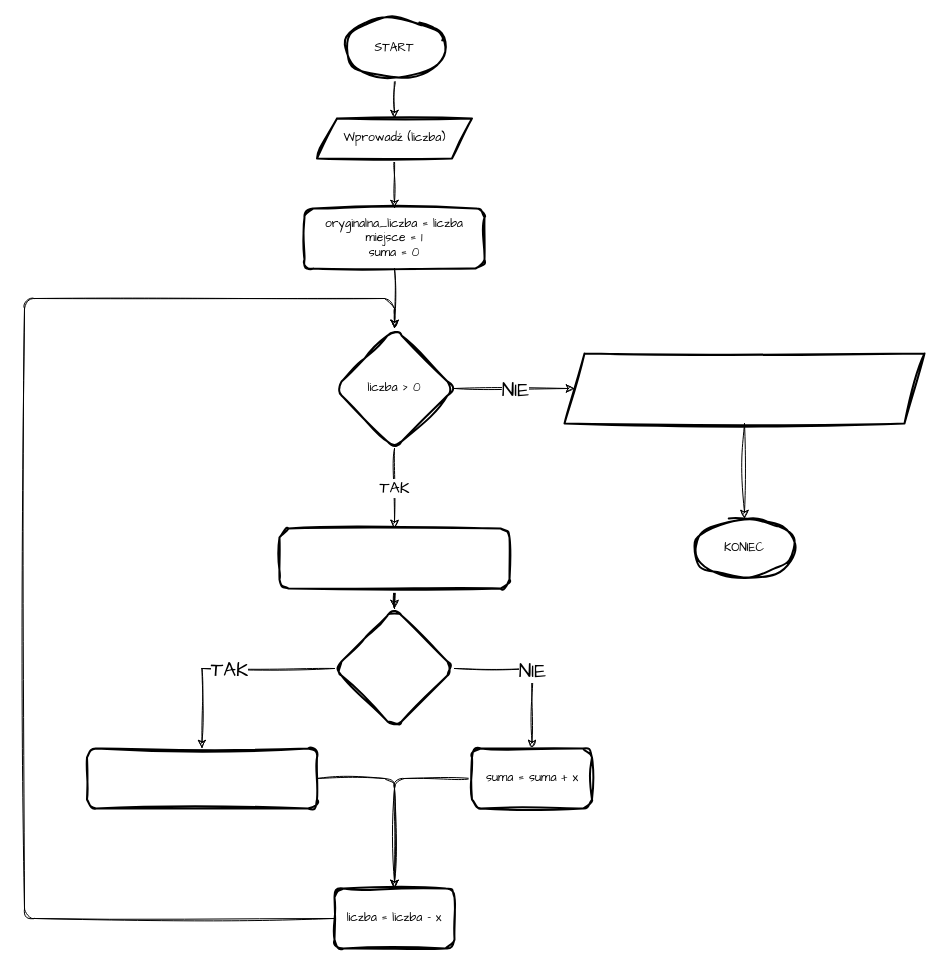
Image size: 943x966. Some labels were removed from this diagram. The centre of each missing label's shape, as x and y in pixels:
"miejsce > 1" belongs at pixel 394 668.
"suma = suma + (x div 10^(miejsce - 1))" belongs at pixel 202 778.
"Suma cyfr dla liczby {oryginalna_liczba} wynosi {suma}" belongs at pixel 744 388.
"x = liczba mod 10^miejsce" belongs at pixel 394 558.
